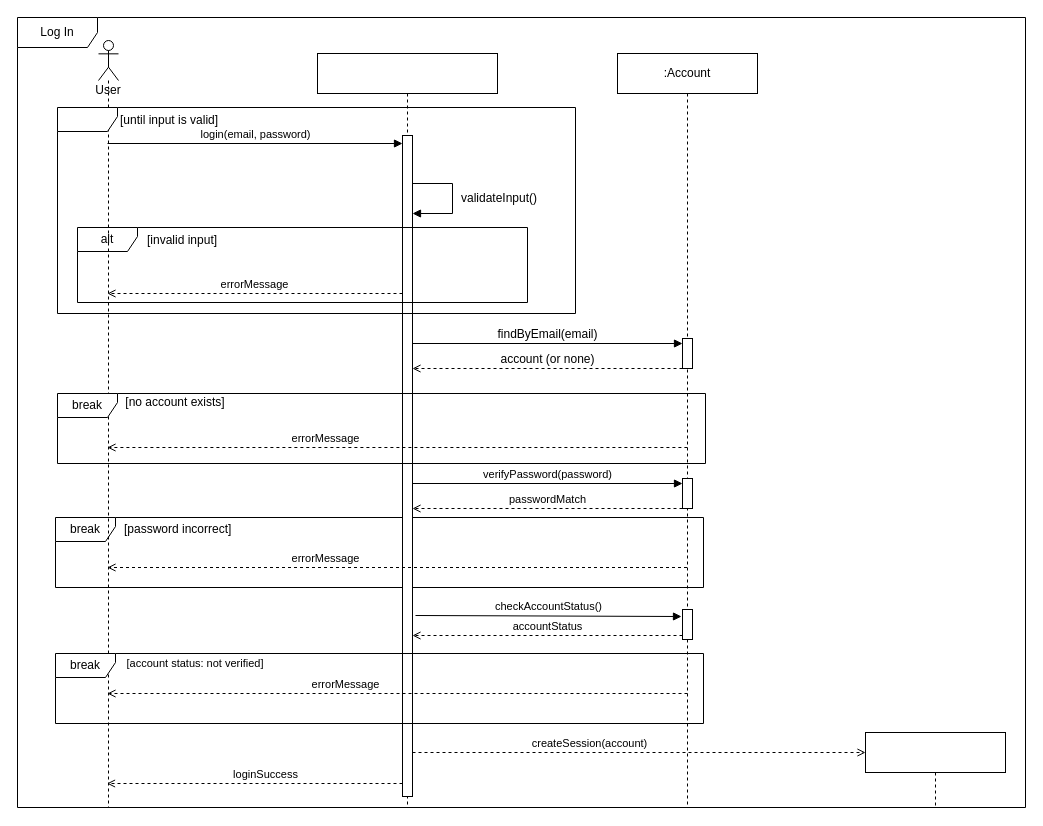
Some shapes in this 1043 by 826 pixel diagram are drawn without their labels. The shapes that lost their labels are listed below. From the top down, each one's box as (x1, y1, x2, y2) in pixels, then its label:
(56, 106, 576, 314): Loop
(316, 52, 498, 808): :AuthenticationService
(864, 732, 1006, 772): :Session
